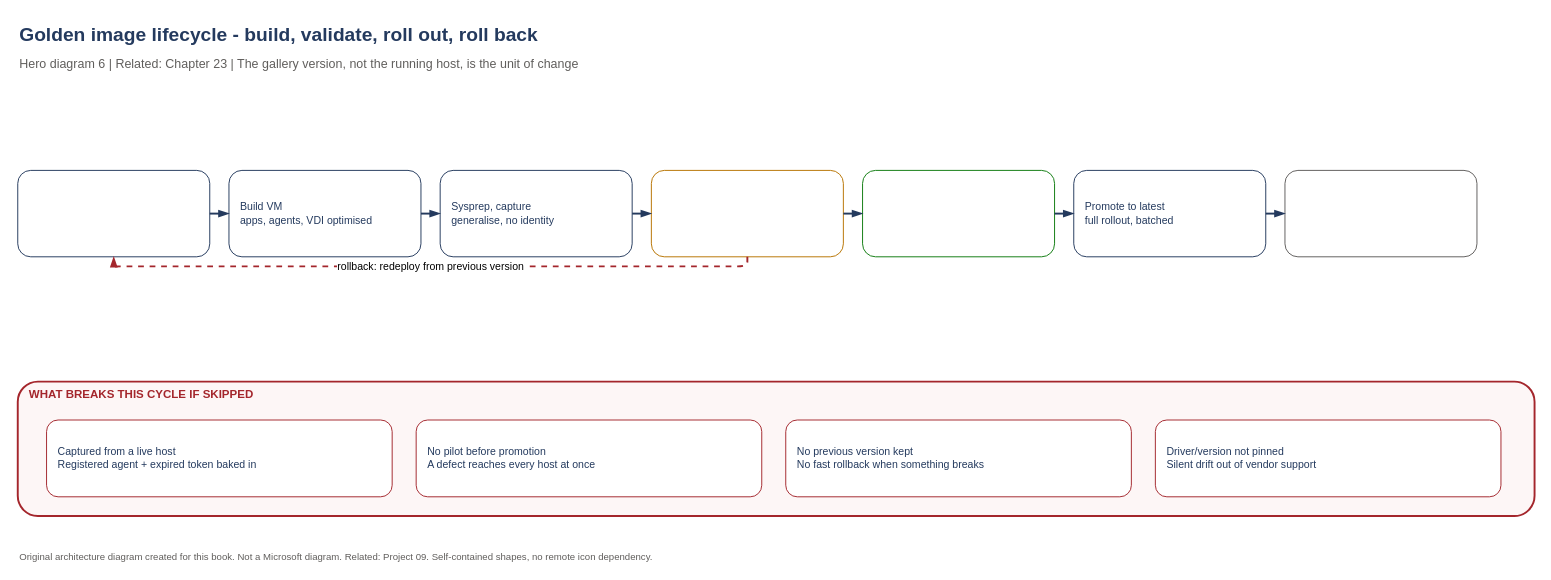
Some shapes in this 1551 by 580 pixel diagram are drawn without their labels. The centre of each missing label's shape, as x and y in pixels:
"Gallery version new, excluded from latest" goes at [746,213].
"Marketplace image clean source, never registered" goes at [113,213].
"Pilot pool 2-3 hosts, user validation" goes at [958,213].
"Previous version kept as rollback path" goes at [1380,213].
